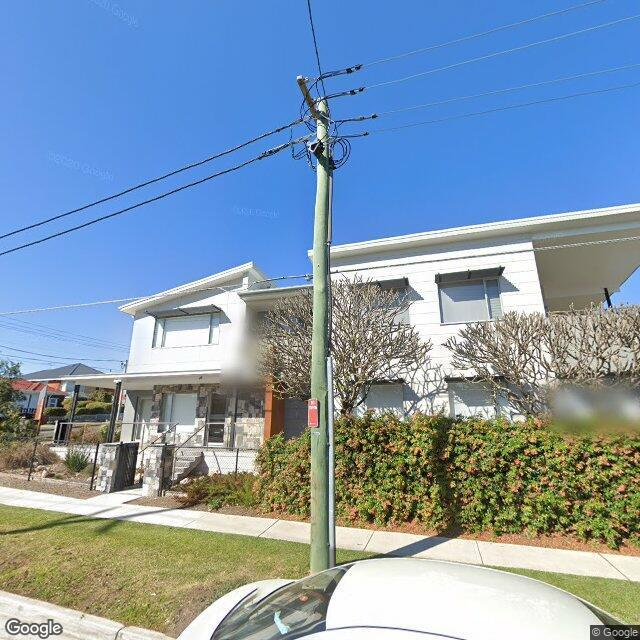crossarm: (296, 75, 318, 123)
timber-pole: (310, 98, 337, 576)
